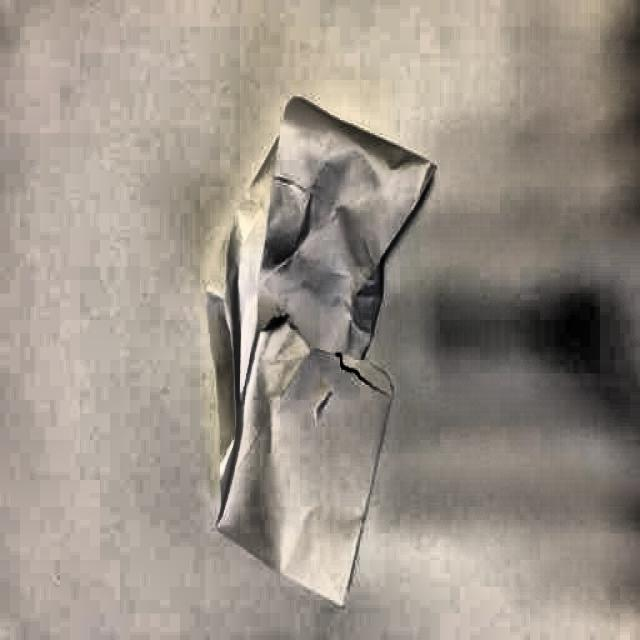paper: (198, 95, 433, 620)
